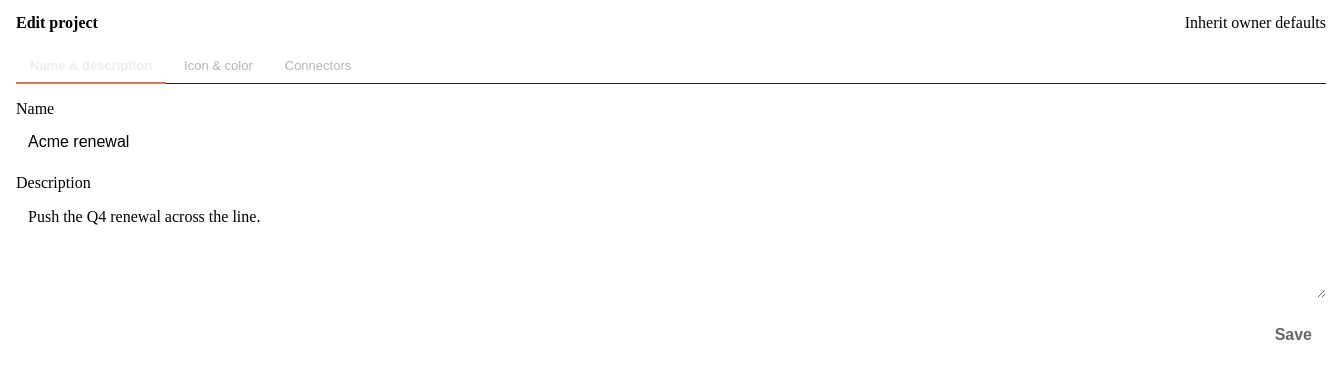
it: ProjectEditor › surfaces save errors inline and clears submitting state
Replace the text in the field with test id "project-editor-name-input" with "Updated name" at (671, 142), box [16,124,1326,160]
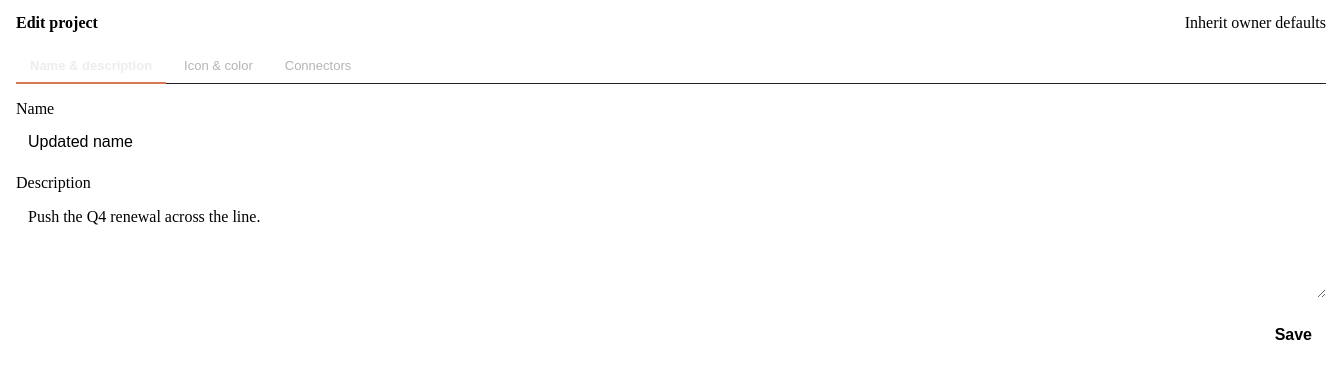
Click the button with test id "project-editor-save" at (1293, 335), box [1261,318,1326,352]
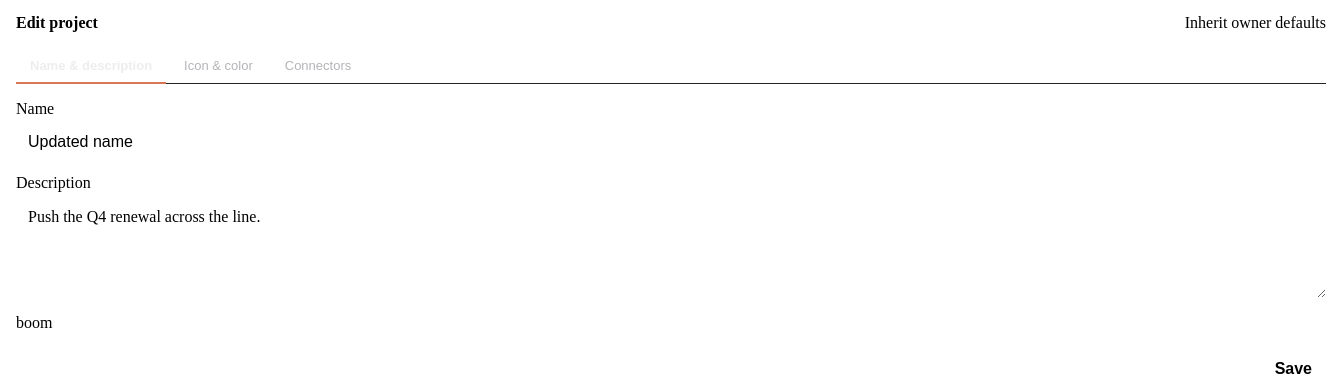
Expected: the message with test id "project-editor-error" reads "boom", [16,314,52,331]
